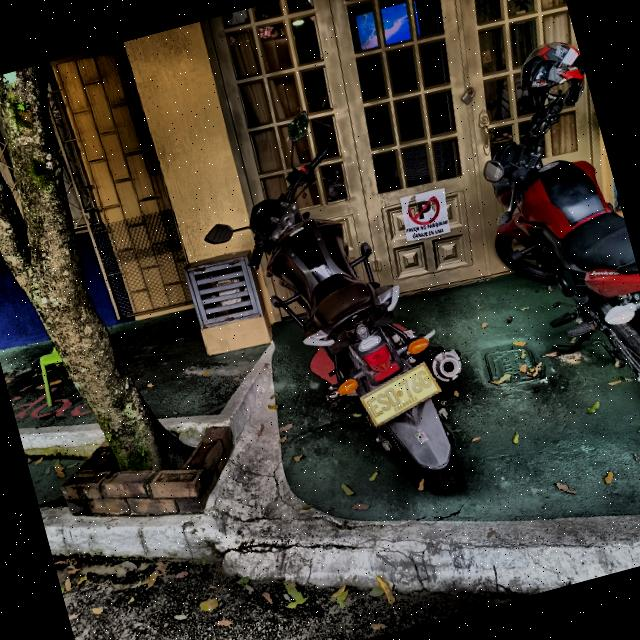6: (406, 373, 424, 395)
7: (397, 376, 414, 399)
E: (365, 395, 385, 419)
G: (415, 368, 433, 390)
O: (383, 386, 402, 408)
S: (375, 390, 393, 413)
